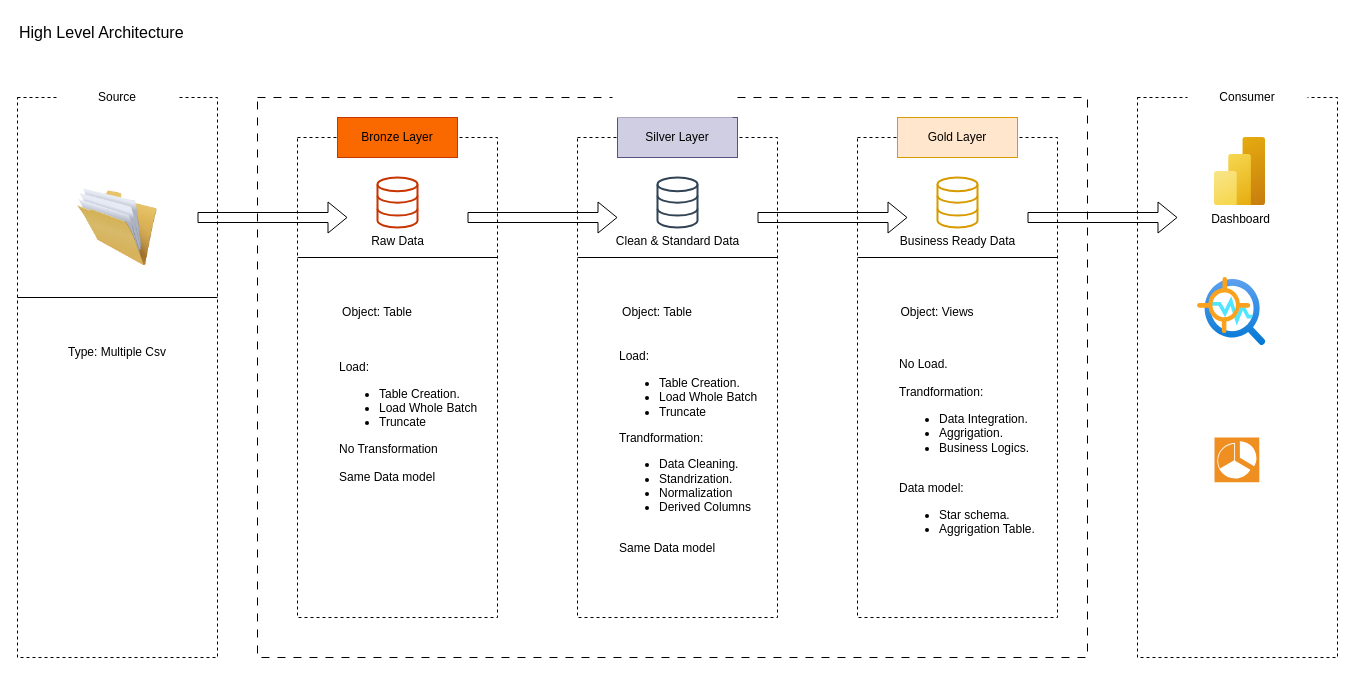
Some shapes in this 1355 by 675 pixel diagram are drawn without their labels. Each missing label, with the centre of its shape:
".CSV" goes at (x=117, y=227).
"Analysis" goes at (x=1231, y=311).
"Data WArehouse" goes at (x=672, y=87).
"Reporting" goes at (x=1236, y=459).
